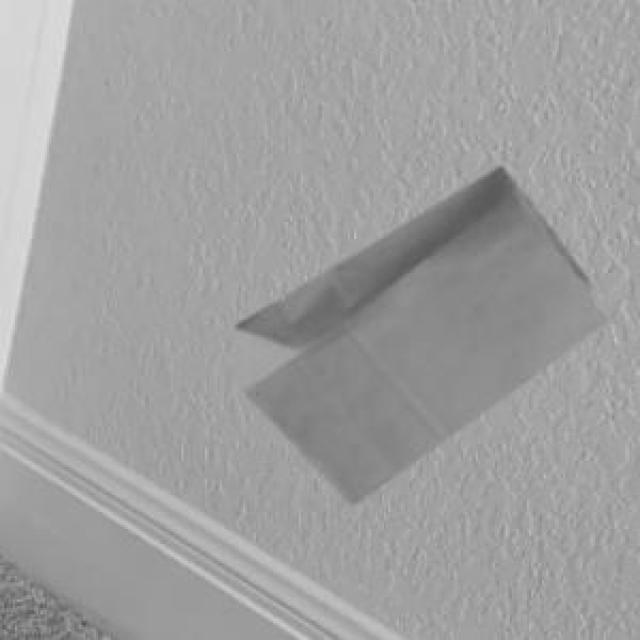paper: (233, 164, 602, 499)
